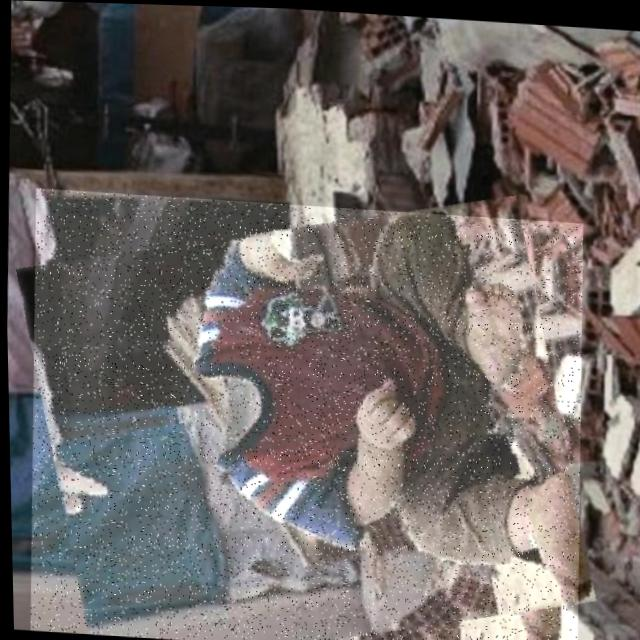Person in Rubble: (19, 186, 589, 640)
